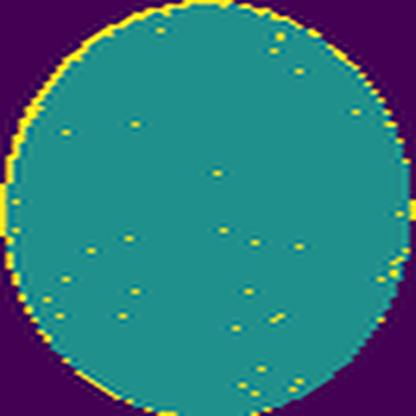Donut: (0, 0, 328, 416)
